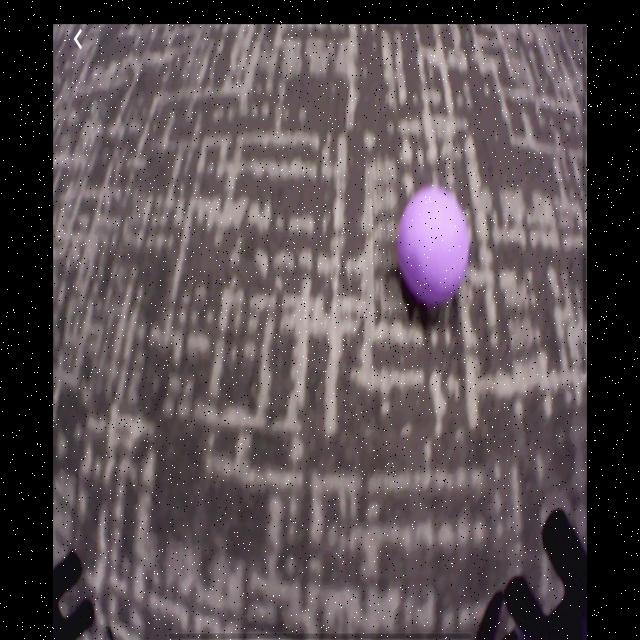ball: (402, 187, 470, 306)
